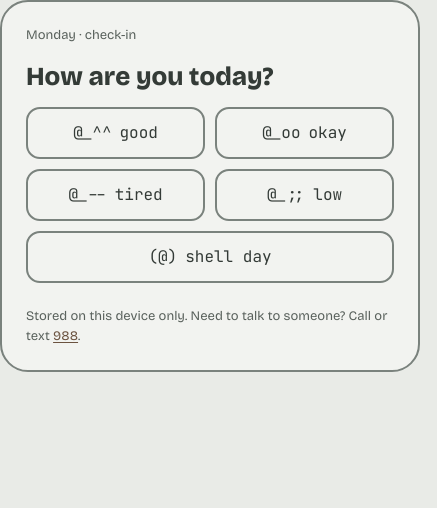
Scenario: CheckIn › takes the answer back when the chosen chip is tapped again
Click the button "@_^^ good". click: (116, 133)
box: [26,107,205,159]
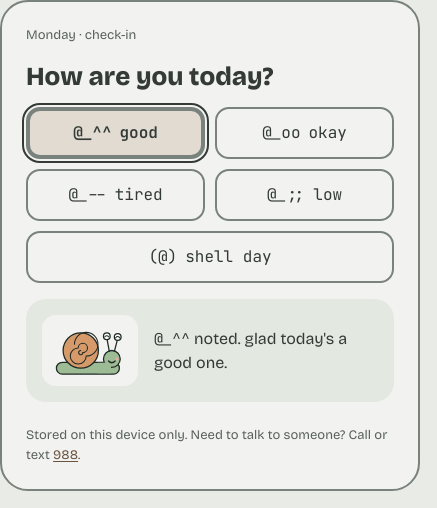
Click the button "@_^^ good". click: (116, 133)
box: [26,107,205,159]
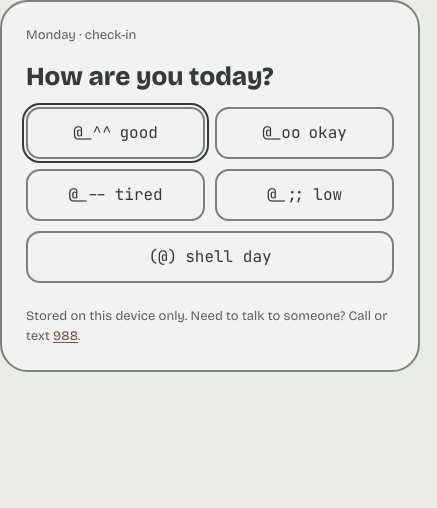
Check: the message "@_^^ noted. glad today's a good one." is gone
